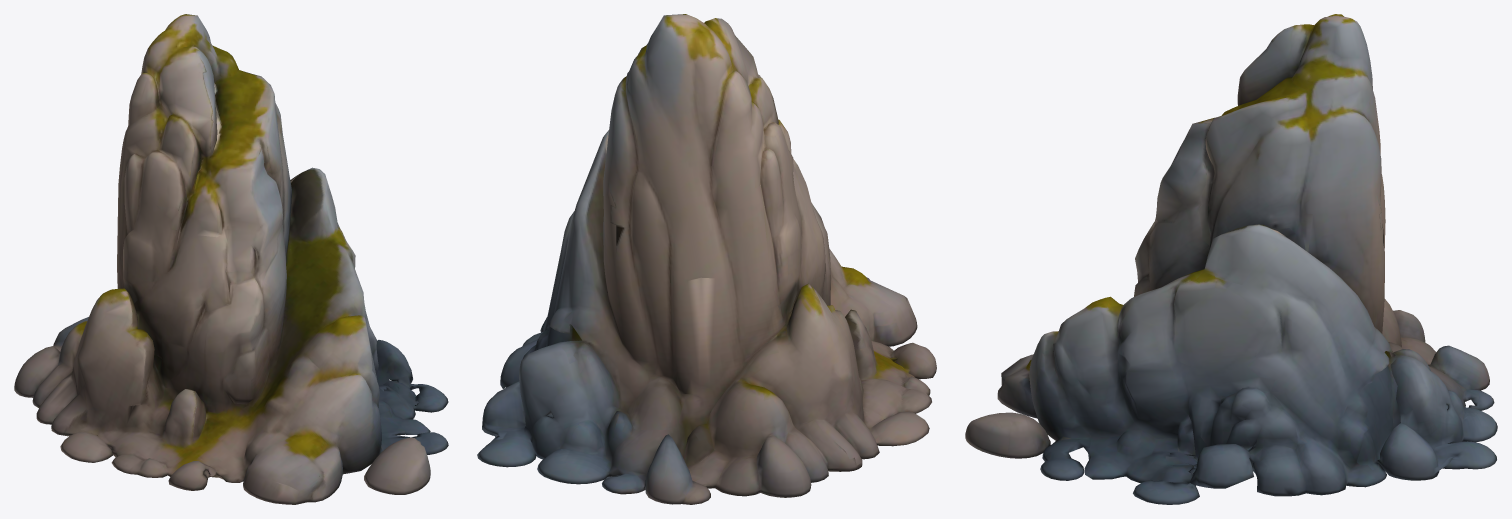
File: rocky_outcrop_b582bd01_v2.glb
3 renders of one model, left to right at view 1: azimuth 30°, elevation 25°; view 2: azimuth 150°, elevation 25°; view 3: azimuth 270°, elevation 25°, orthographic. The views are drawn at different scales.
Visible parts, largest first — view 1: material; view 2: material; view 3: material.
Boxes of the visible parts, box(x1,y1,x2,y2) form: material: box(14, 14, 448, 504); material: box(477, 14, 936, 504); material: box(965, 14, 1497, 504).
Bounding box in the file's own units: 1.55 × 1.55 × 1.9.
Materials: 1 (1 with a texture image).
